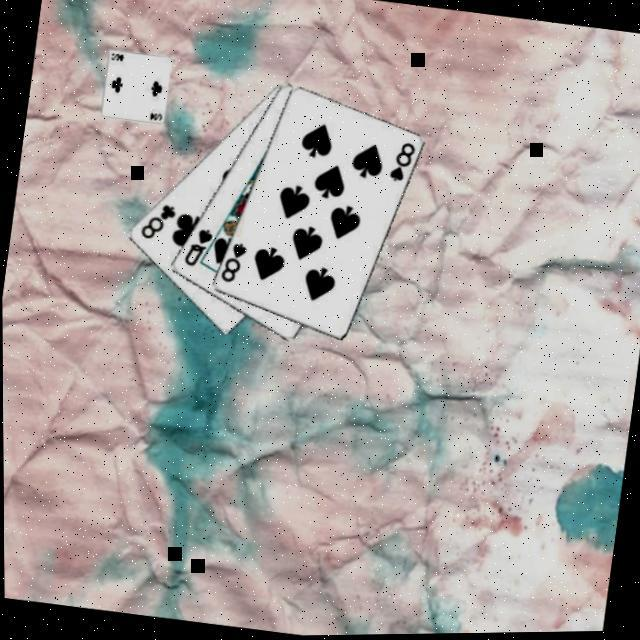8C: (135, 196, 178, 244)
8S: (215, 237, 249, 286), (384, 136, 418, 185)
QS: (178, 222, 215, 270)
